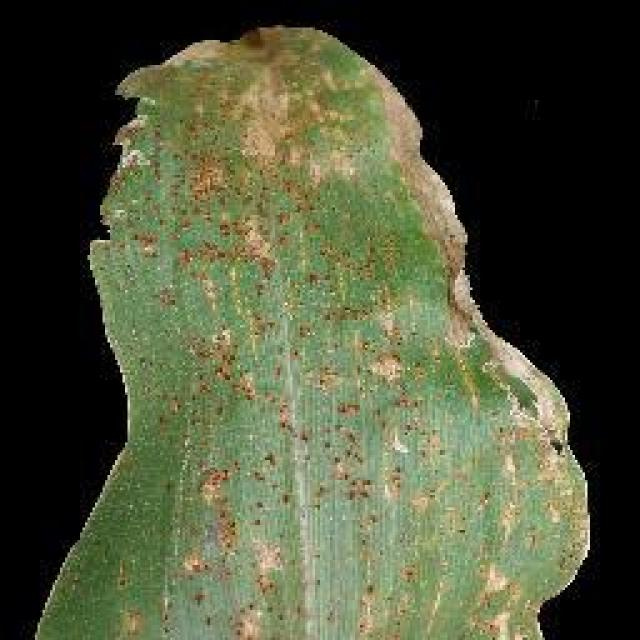Corn Common Rust: (140, 65, 467, 562)
